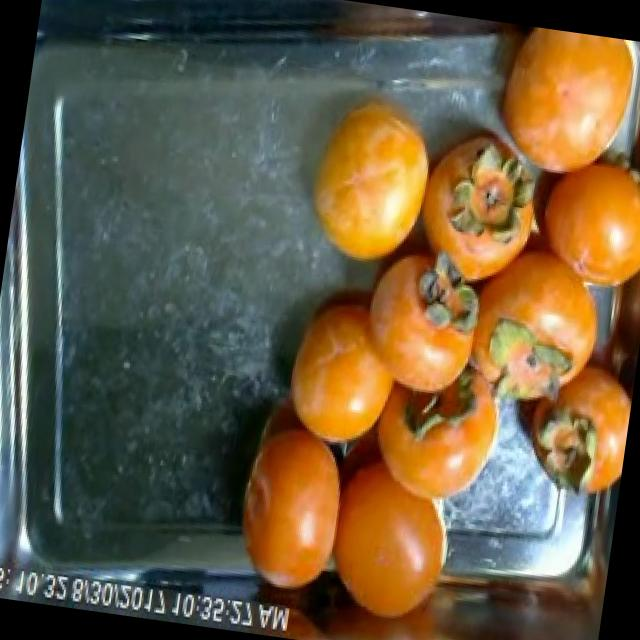Fruit: (280, 66, 454, 294), (210, 396, 366, 616), (467, 20, 640, 201)
